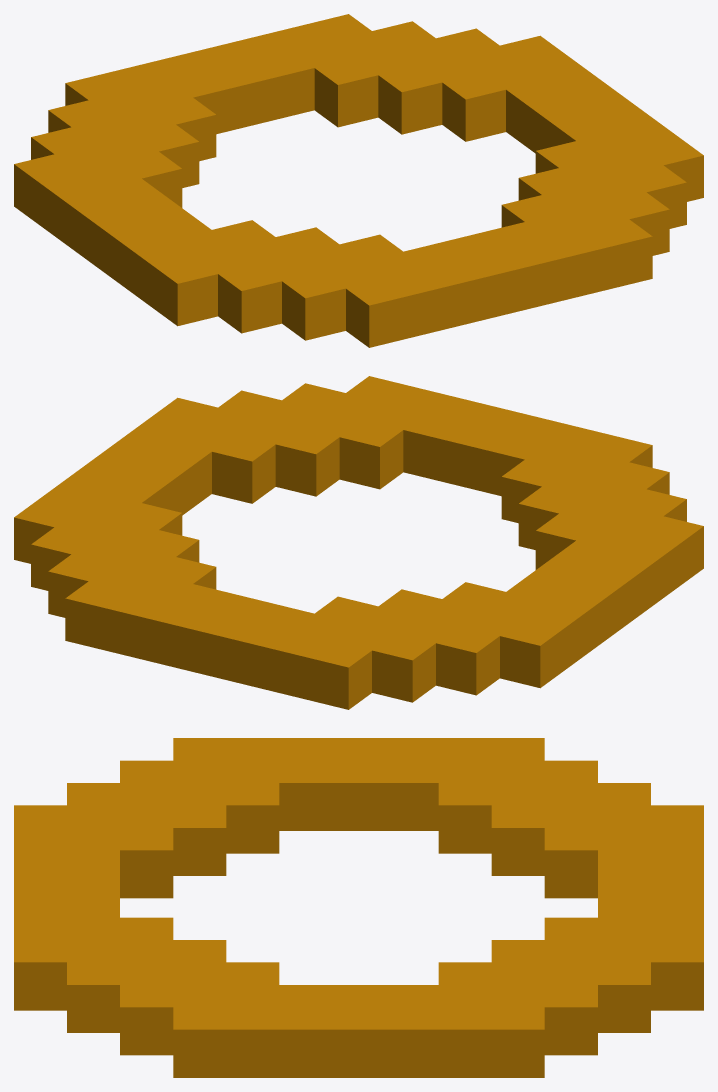
File: star.obj
3 renders of one model, top to bottom at view 1: azimuth 30°, elevation 25°; view 2: azimuth 150°, elevation 25°; view 3: azimuth 270°, elevation 25°, orthographic. The views are drawn at different scales.
Bounding box in the file's own units: 13 × 1 × 13.
Materials: 1 (1 with a texture image).
